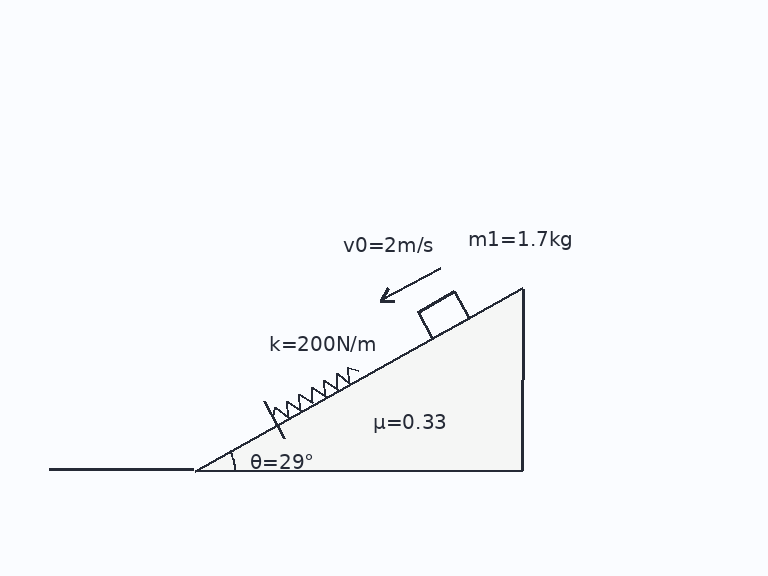block: (415, 289, 471, 340)
ramp: (193, 286, 525, 472)
spring: (271, 365, 360, 419)
